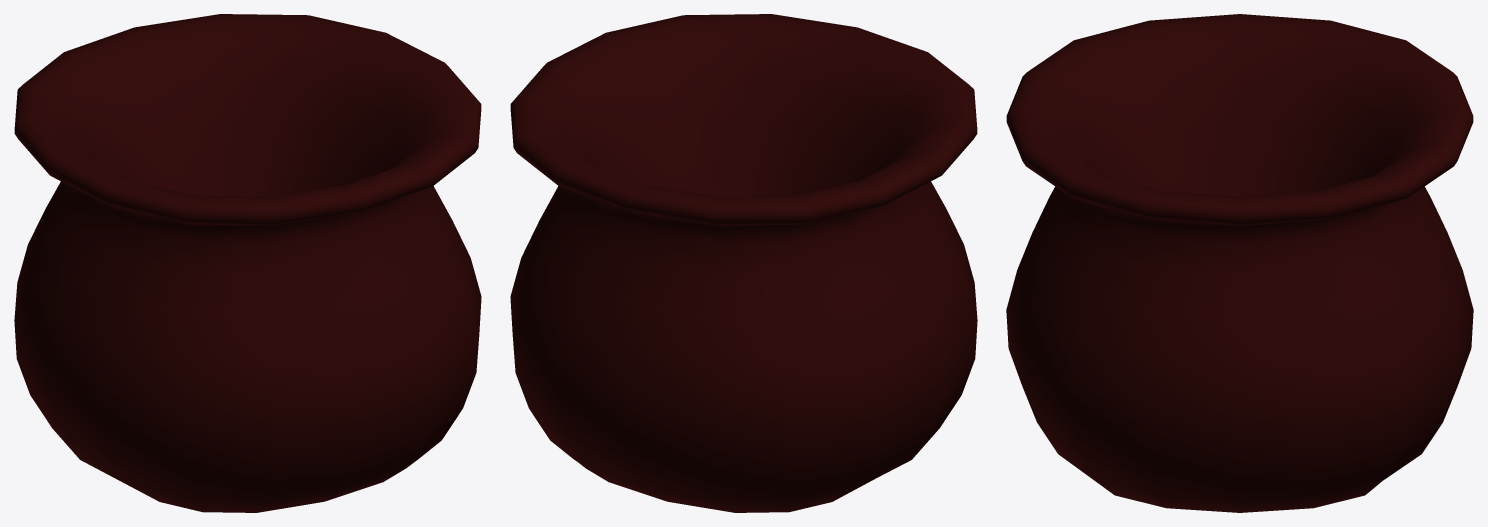
File: Sack.fbx
The picture shows the model from 3 angles, left to right: view 1: azimuth 30°, elevation 25°; view 2: azimuth 150°, elevation 25°; view 3: azimuth 270°, elevation 25°; orthographic projection.
Visible parts, largest first — view 1: Sack; view 2: Sack; view 3: Sack.
Part boxes in pixels (x1,y1,x2,y2): Sack: (14, 14, 481, 512); Sack: (510, 14, 977, 512); Sack: (1006, 14, 1473, 512).
Size of the model in its own units: 83.44 by 68.58 by 83.44.
